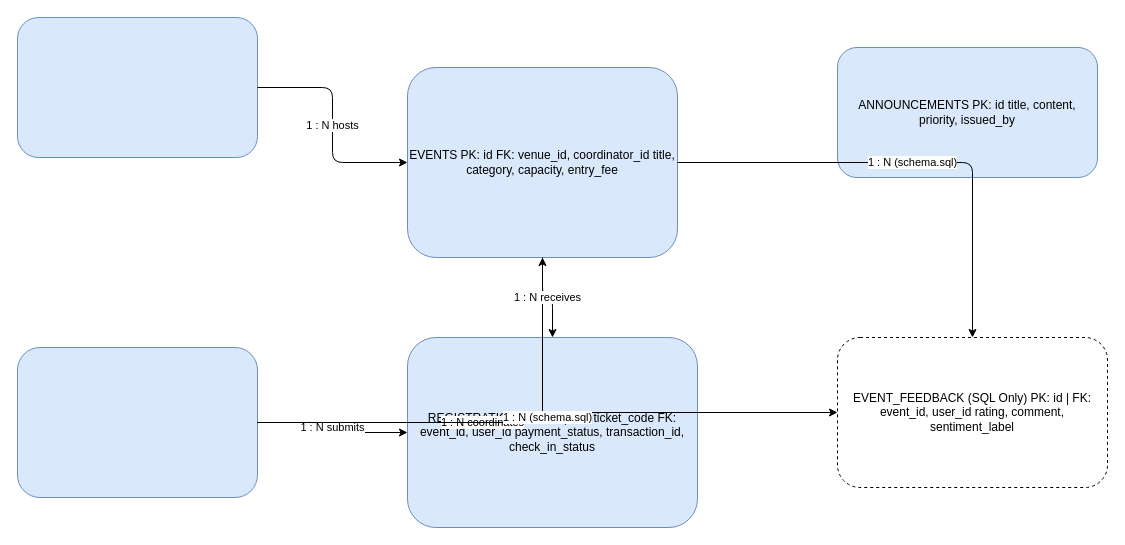
The diagram is 1125 pixels wide and 545 high, and some of its shapes have lost their labels. The centre of each missing label's shape, as x and y in pixels:
"USERS PK: id UK: email, rgukt_id role, full_name, dept, phone" goes at pixel 137 422.
"VENUES PK: id UK: short_code name, capacity, location" goes at pixel 137 87.
